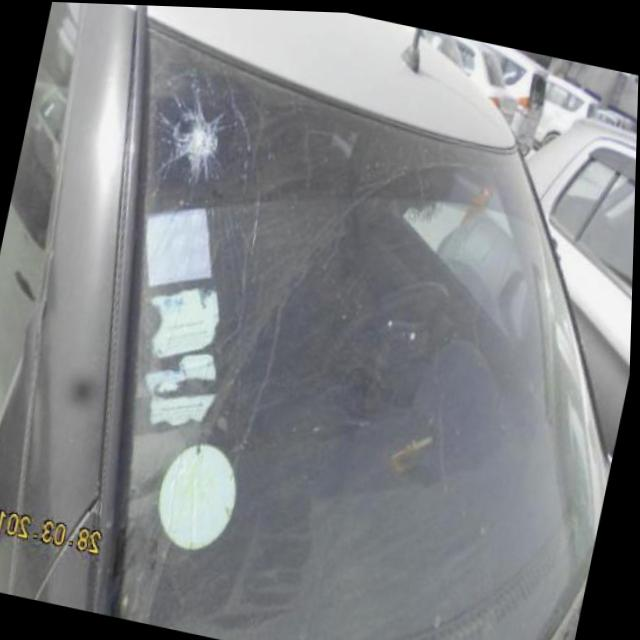Car-Damage: (160, 89, 237, 191)
